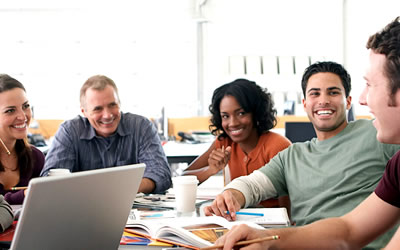Person: (69, 75, 165, 185), (1, 68, 59, 207), (294, 66, 355, 191), (204, 83, 276, 185), (361, 32, 400, 213)
